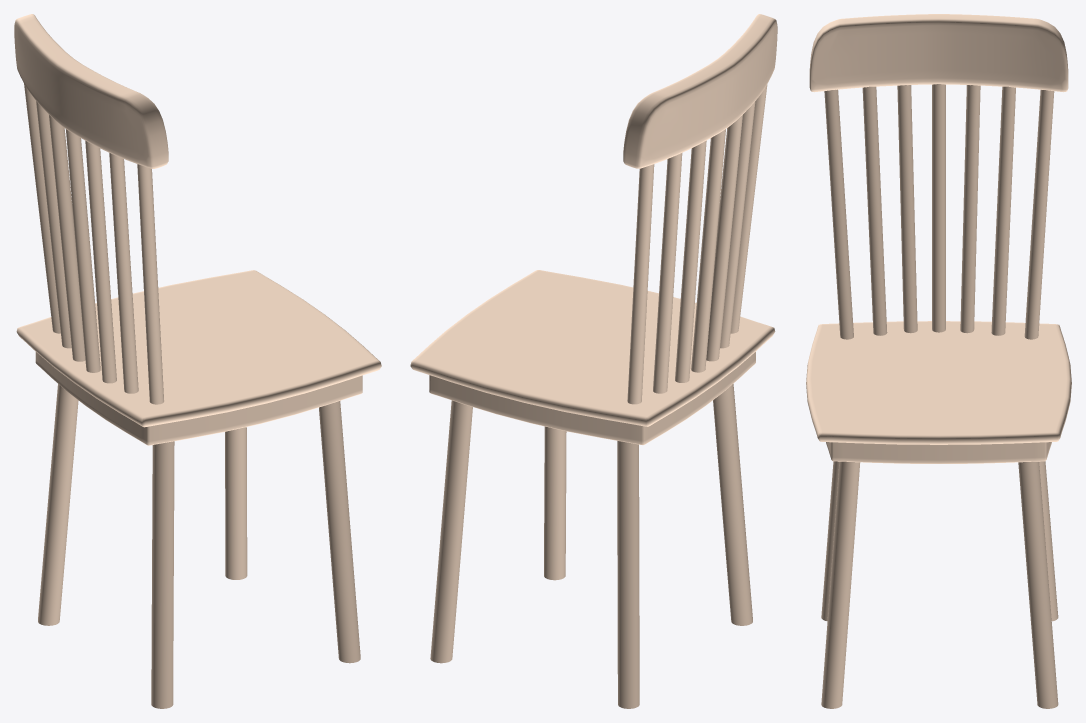
File: chair.fbx
3 renders of one model, left to right at view 1: azimuth 30°, elevation 25°; view 2: azimuth 150°, elevation 25°; view 3: azimuth 270°, elevation 25°, orthographic. The views are drawn at different scales.
Visible parts, largest first — view 1: uploads_files_193888_chair_01; view 2: uploads_files_193888_chair_01; view 3: uploads_files_193888_chair_01.
Boxes of the visible parts, x1,y1,x2,y2 form: uploads_files_193888_chair_01: (14,14,381,708); uploads_files_193888_chair_01: (410,14,777,708); uploads_files_193888_chair_01: (806,14,1071,708).
Bounding box in the file's own units: 129 × 281 × 116.
